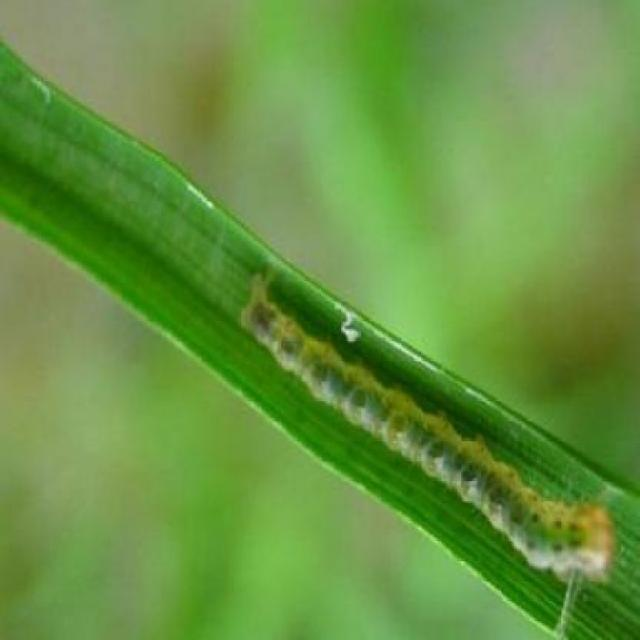leaf-folder: (234, 258, 640, 600)
